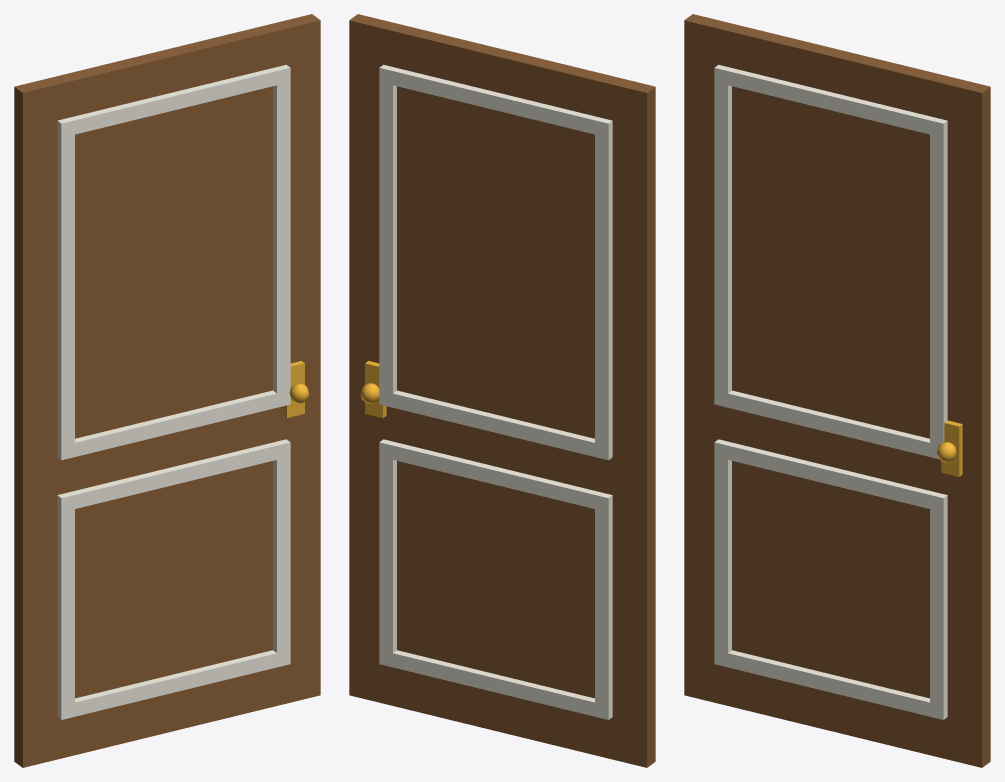
The model's file is SM_Door_ra_inner_100x215.fbx.
3 views of the same model, side by side, from view 1: azimuth 30°, elevation 25°; view 2: azimuth 150°, elevation 25°; view 3: azimuth 330°, elevation 25° (orthographic).
Visible parts, largest first — view 1: SM_Door_ra_inner_100x215; view 2: SM_Door_ra_inner_100x215; view 3: SM_Door_ra_inner_100x215.
Part boxes in pixels (<box>): SM_Door_ra_inner_100x215: <box>14,14,320,767</box>; SM_Door_ra_inner_100x215: <box>349,14,655,767</box>; SM_Door_ra_inner_100x215: <box>684,14,990,767</box>.
Size of the model in its own units: 0.988 by 2.14 by 0.19.
